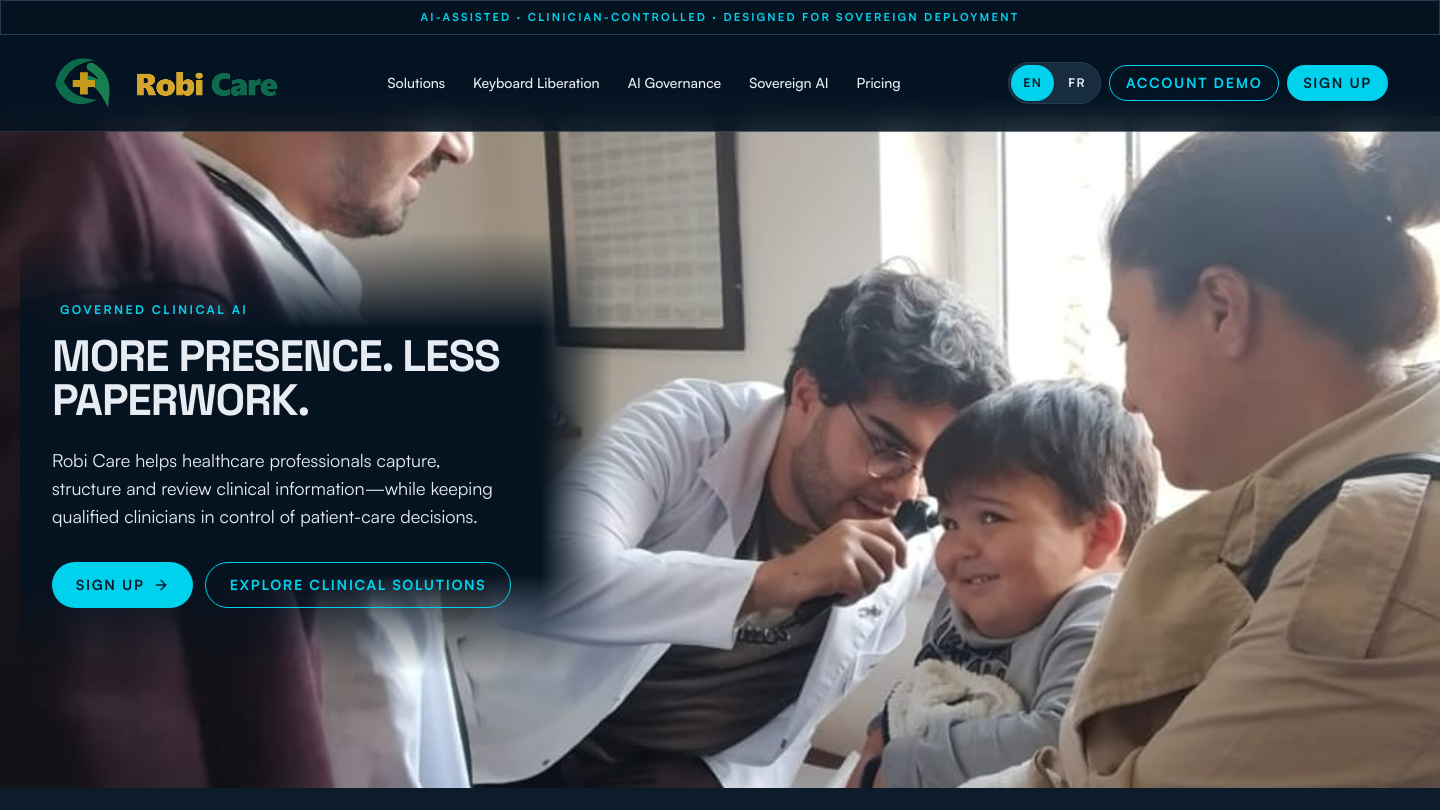
Test: EN / FR toggle in the header › switches the whole page to French with one action
Expected: the heading "More presence. Less paperwork." is shown, [52,334,564,422]
Click the button with aria-label "Français": (1077, 82) [1056,64,1098,100]
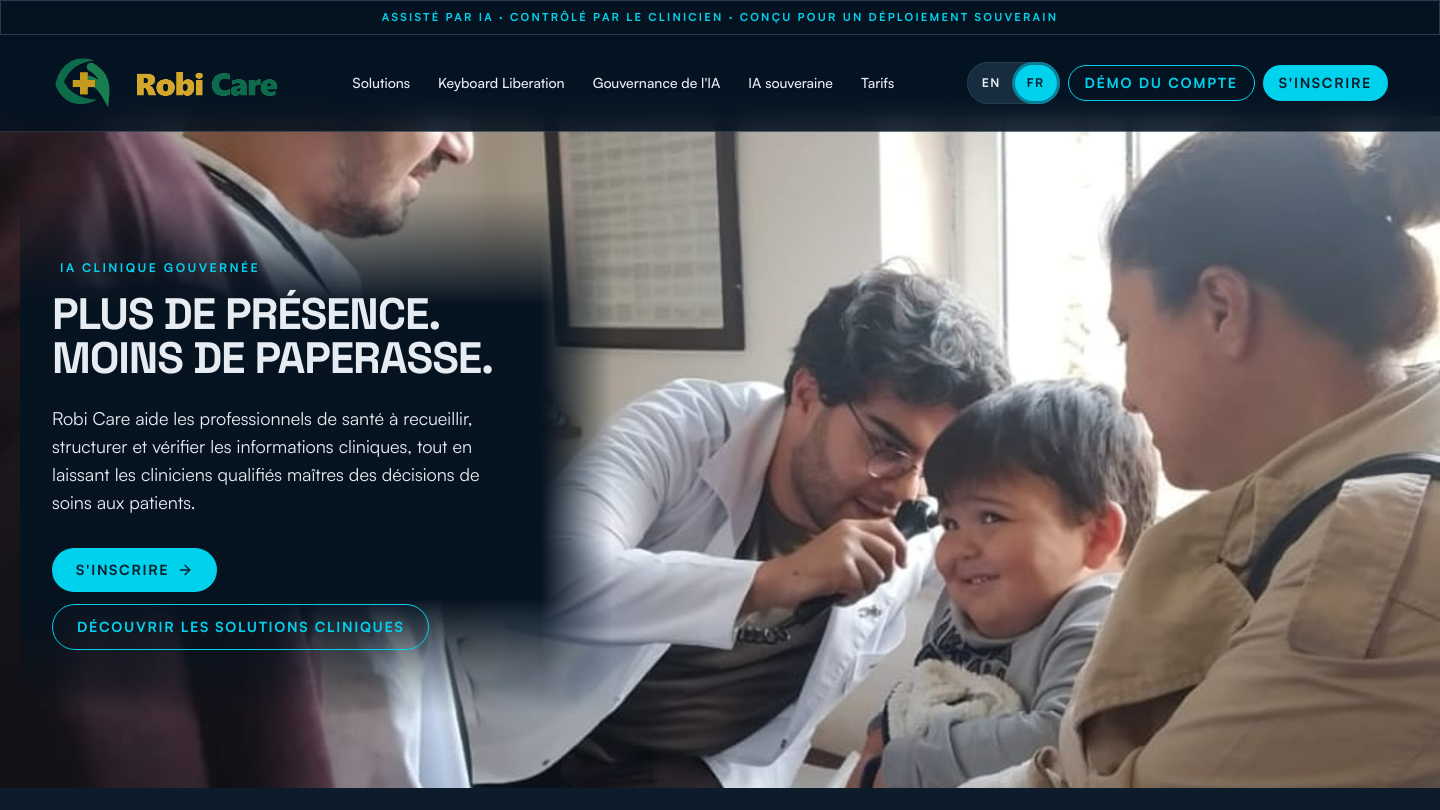
Expected: the text "Assisté par IA · Contrôlé par le clinicien · Conçu pour un déploiement souverain" is shown, [382,10,1058,24]
Expected: the navigation bar named "Principale" is shown, [353,74,894,90]
Expected: the link "Tarifs" is shown, [861,74,894,90]
